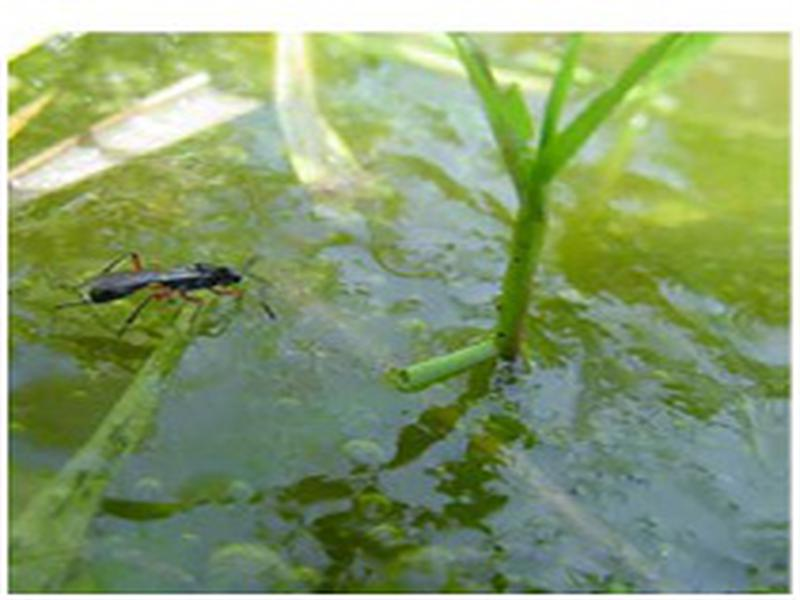Rice_case_worm: (74, 210, 286, 371)
